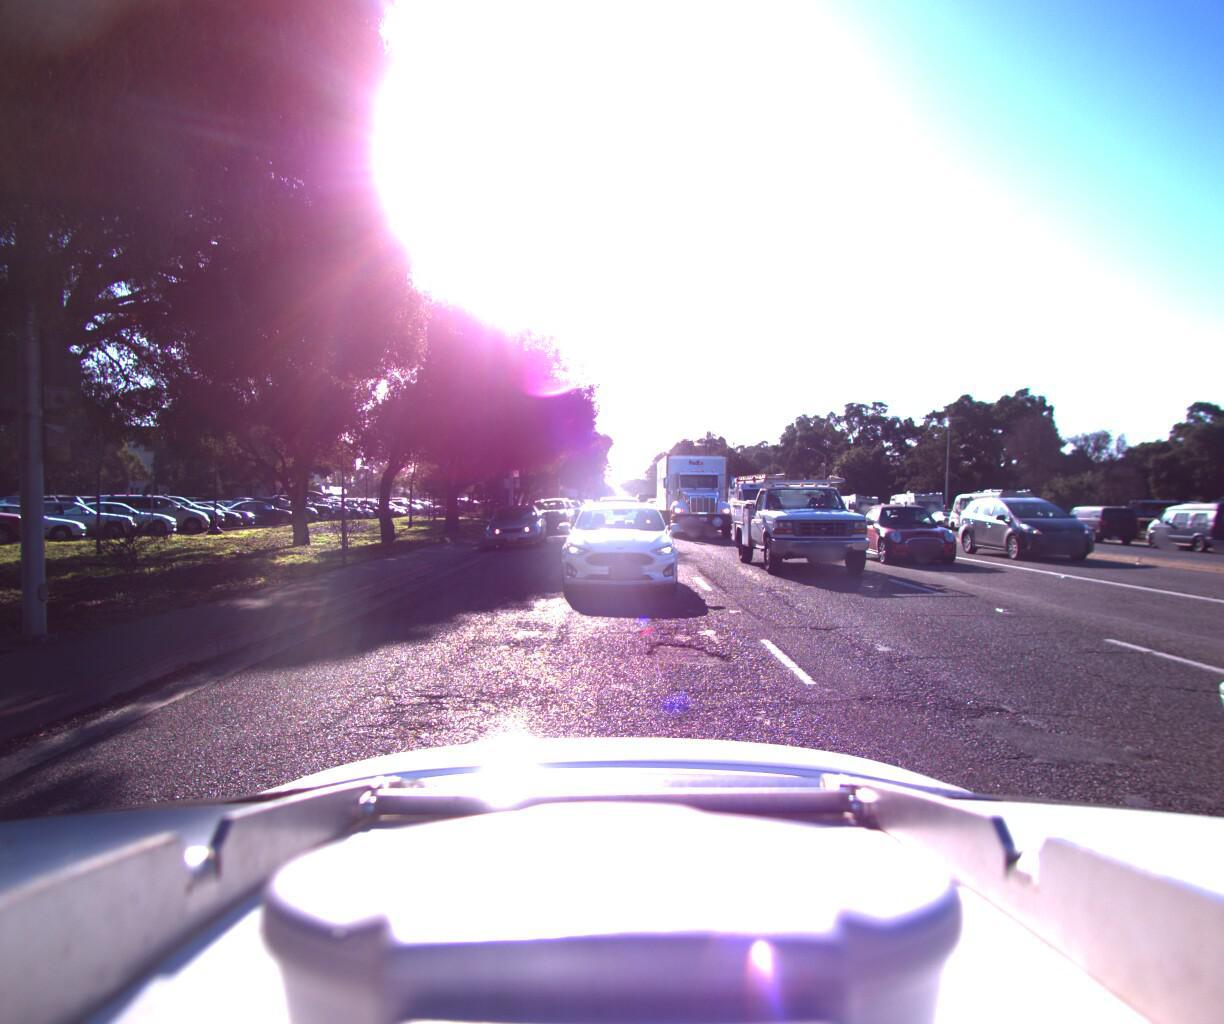car: (732, 464, 886, 580), (553, 494, 679, 602), (969, 489, 1128, 564), (857, 497, 976, 565), (1143, 498, 1224, 550), (583, 495, 647, 554), (1055, 502, 1140, 542), (481, 500, 549, 547), (722, 472, 777, 528), (531, 495, 570, 533), (921, 507, 967, 527), (633, 489, 651, 509)
other_vehicle: (943, 484, 1050, 532), (884, 486, 948, 524), (830, 487, 881, 520)
truck: (650, 447, 741, 538)
